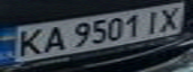0: (106, 15, 127, 42)
1: (121, 11, 145, 38)
5: (90, 17, 112, 45)
9: (66, 19, 93, 48)
A: (36, 24, 69, 54)
I: (139, 7, 166, 35)
K: (9, 26, 51, 59)
X: (151, 3, 187, 34)
